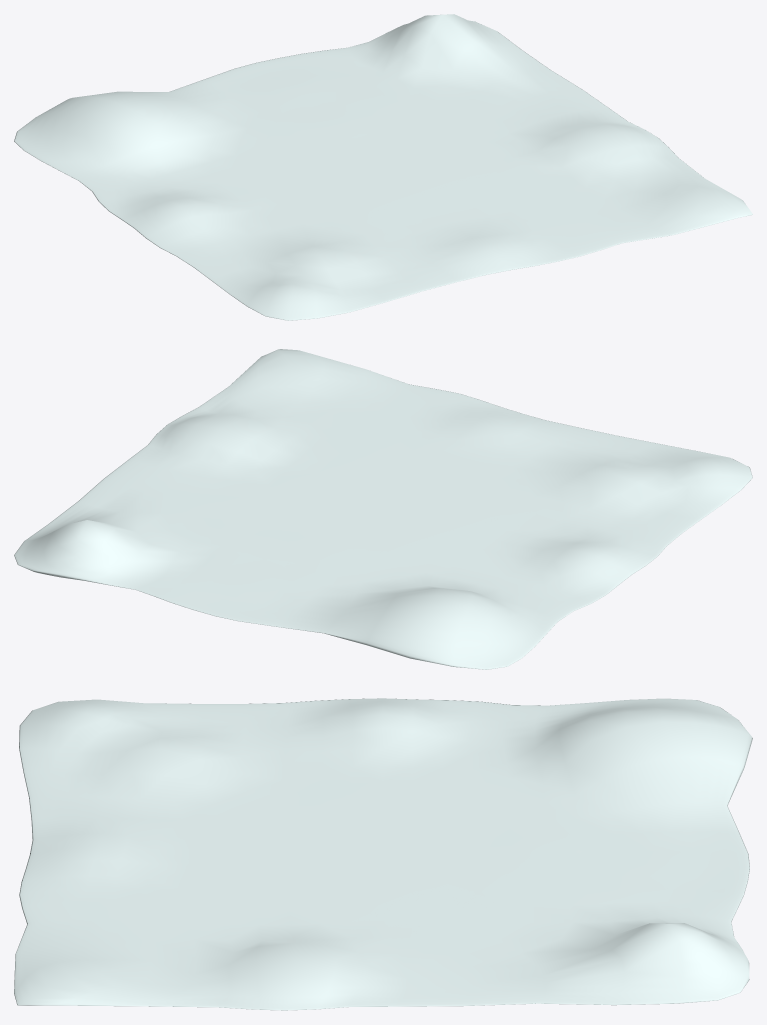
File: snow.obj
3 renders of one model, top to bottom at view 1: azimuth 30°, elevation 25°; view 2: azimuth 150°, elevation 25°; view 3: azimuth 270°, elevation 25°, orthographic. The views are drawn at different scales.
Parts seen in each view (by area): view 1: pCube1; view 2: pCube1; view 3: pCube1.
Boxes of the visible parts, box(x1,y1,x2,y2) form: pCube1: box(14, 14, 752, 320); pCube1: box(14, 349, 752, 669); pCube1: box(14, 698, 752, 1010).
Size of the model in its own units: 23.93 by 1.79 by 23.96.
